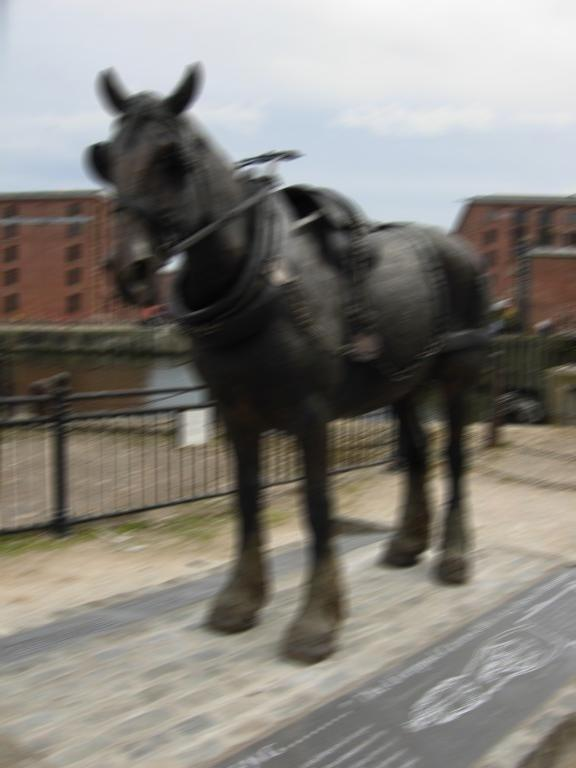horse: (79, 54, 509, 670)
